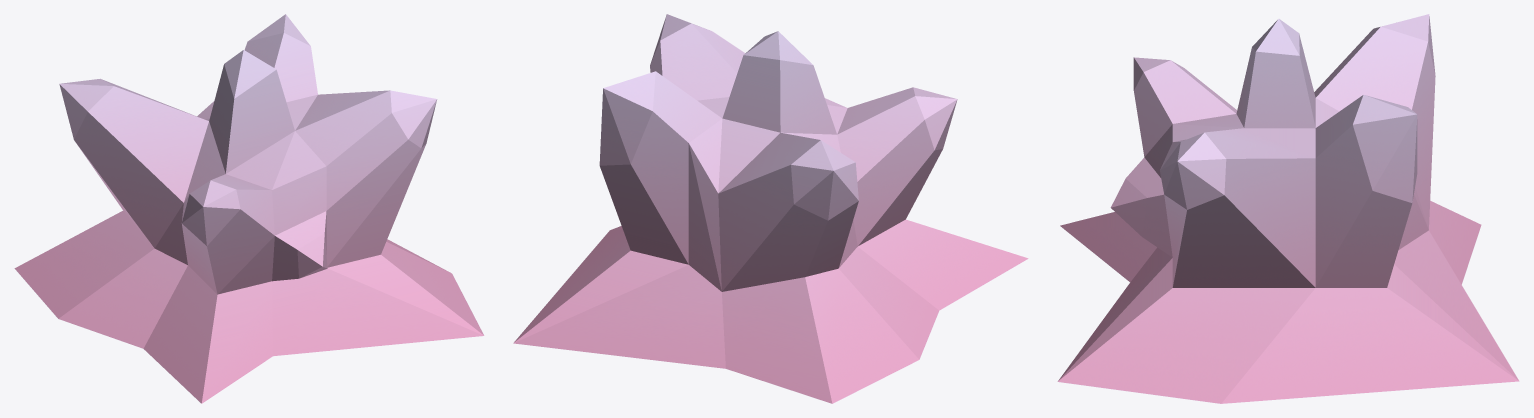
Rendered from MOD_CrystalCluster2.fbx.
3 views of the same model, side by side, from view 1: azimuth 30°, elevation 25°; view 2: azimuth 150°, elevation 25°; view 3: azimuth 270°, elevation 25° (orthographic). The views are drawn at different scales.
Visible parts, largest first — view 1: MOD_KristalFormatie1; view 2: MOD_KristalFormatie1; view 3: MOD_KristalFormatie1.
Boxes of the visible parts, x1,y1,x2,y2 form: MOD_KristalFormatie1: (14,14,484,403); MOD_KristalFormatie1: (513,14,1028,403); MOD_KristalFormatie1: (1057,14,1519,403).
Bounding box in the file's own units: 4.19 × 2.92 × 4.31.
Materials: 1 (1 with a texture image).
